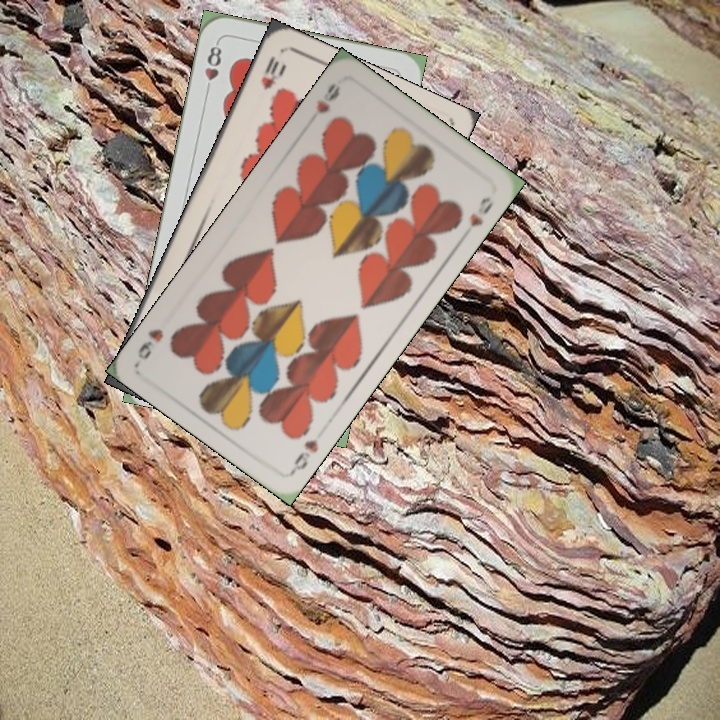H10: (256, 52, 288, 93)
H8: (200, 38, 225, 96)
H9: (287, 435, 321, 476), (312, 79, 343, 116)
